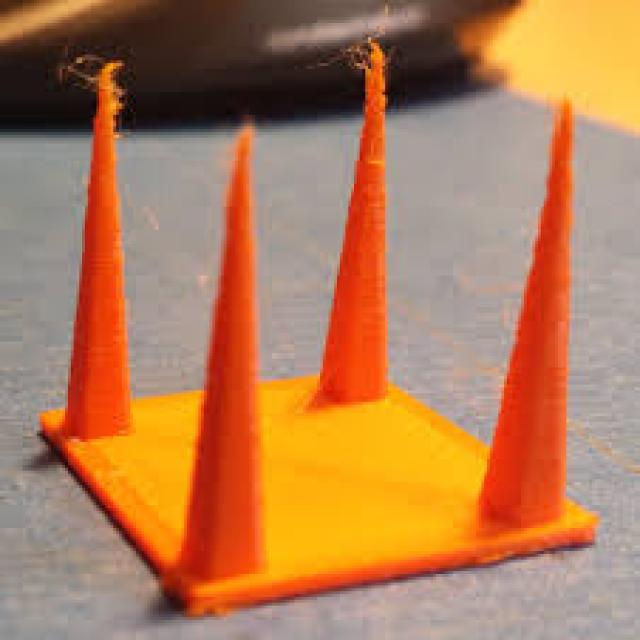stringing: (46, 43, 100, 96), (304, 38, 366, 78)
